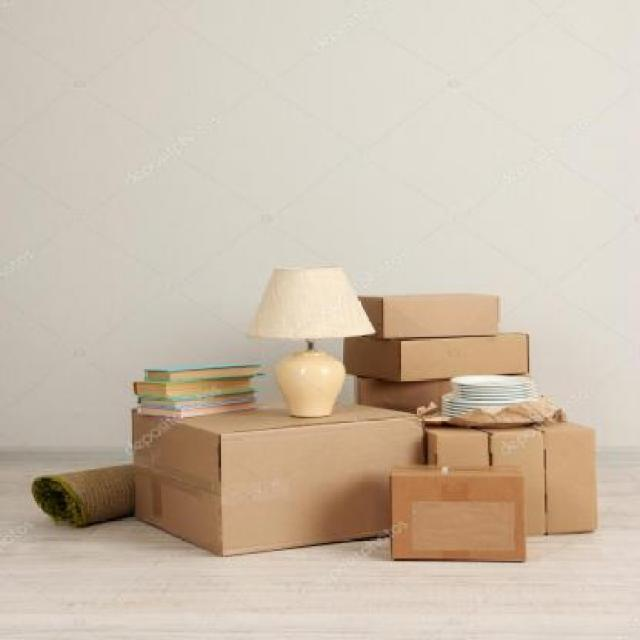box: (128, 400, 424, 550), (387, 468, 532, 564), (342, 328, 536, 384), (522, 418, 600, 540), (348, 288, 503, 340), (486, 426, 550, 546), (419, 417, 494, 476)
